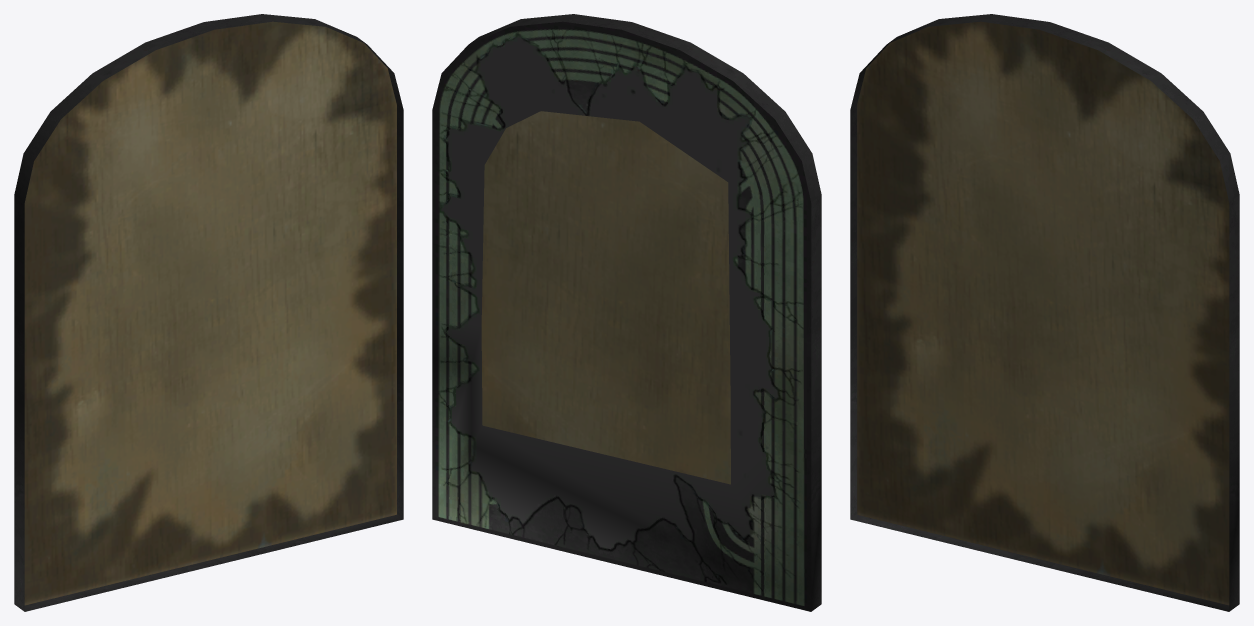
File: VanityMirrorBroken.obj
3 renders of one model, left to right at view 1: azimuth 30°, elevation 25°; view 2: azimuth 150°, elevation 25°; view 3: azimuth 330°, elevation 25°, orthographic.
Parts seen in each view (by area): view 1: VanityMirrorBroken; view 2: VanityMirrorBroken; view 3: VanityMirrorBroken.
Part boxes in pixels (<box>): VanityMirrorBroken: <box>14,14,403,611</box>; VanityMirrorBroken: <box>432,14,821,611</box>; VanityMirrorBroken: <box>850,14,1239,611</box>.
Size of the model in its own units: 109 by 148 by 5.27.
Materials: 2 (2 with a texture image).
